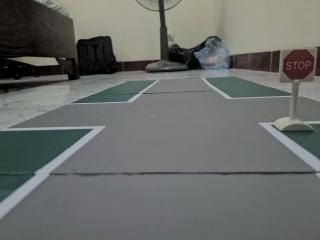stop: (275, 42, 317, 85)
